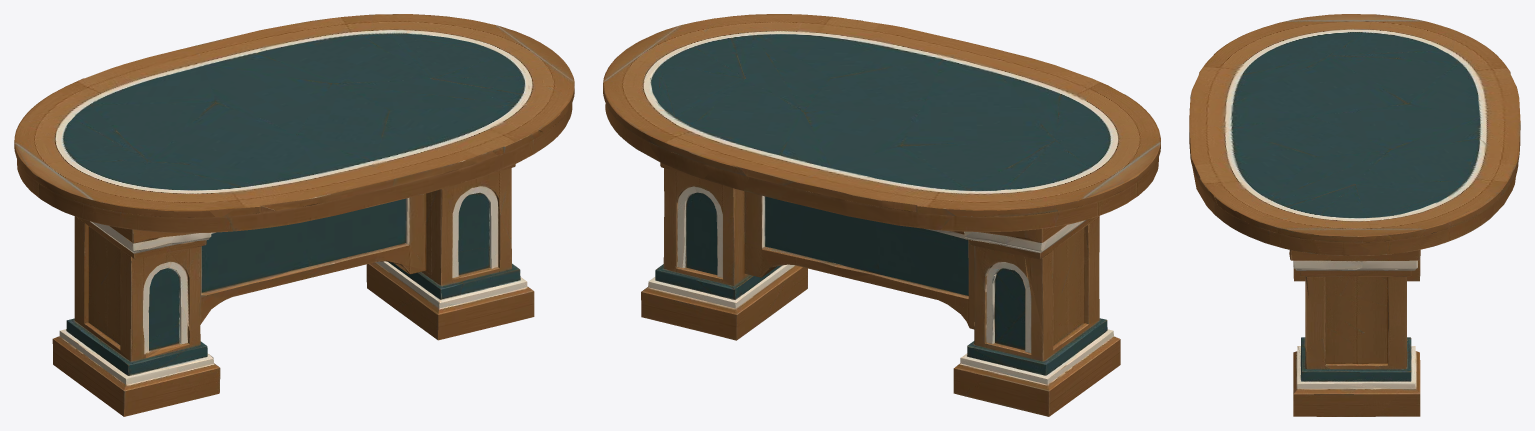
Rendered from ovalTable.glb.
3 renders of one model, left to right at view 1: azimuth 30°, elevation 25°; view 2: azimuth 150°, elevation 25°; view 3: azimuth 270°, elevation 25°, orthographic. The views are drawn at different scales.
Visible parts, largest first — view 1: Mesh_0; view 2: Mesh_0; view 3: Mesh_0.
Part boxes in pixels (x1=…): Mesh_0: x1=14, y1=14, x2=574, y2=416; Mesh_0: x1=603, y1=14, x2=1160, y2=416; Mesh_0: x1=1189, y1=14, x2=1520, y2=416.
Size of the model in its own units: 1.2 by 0.5113 by 0.7538.
1 material, 1 textured.
